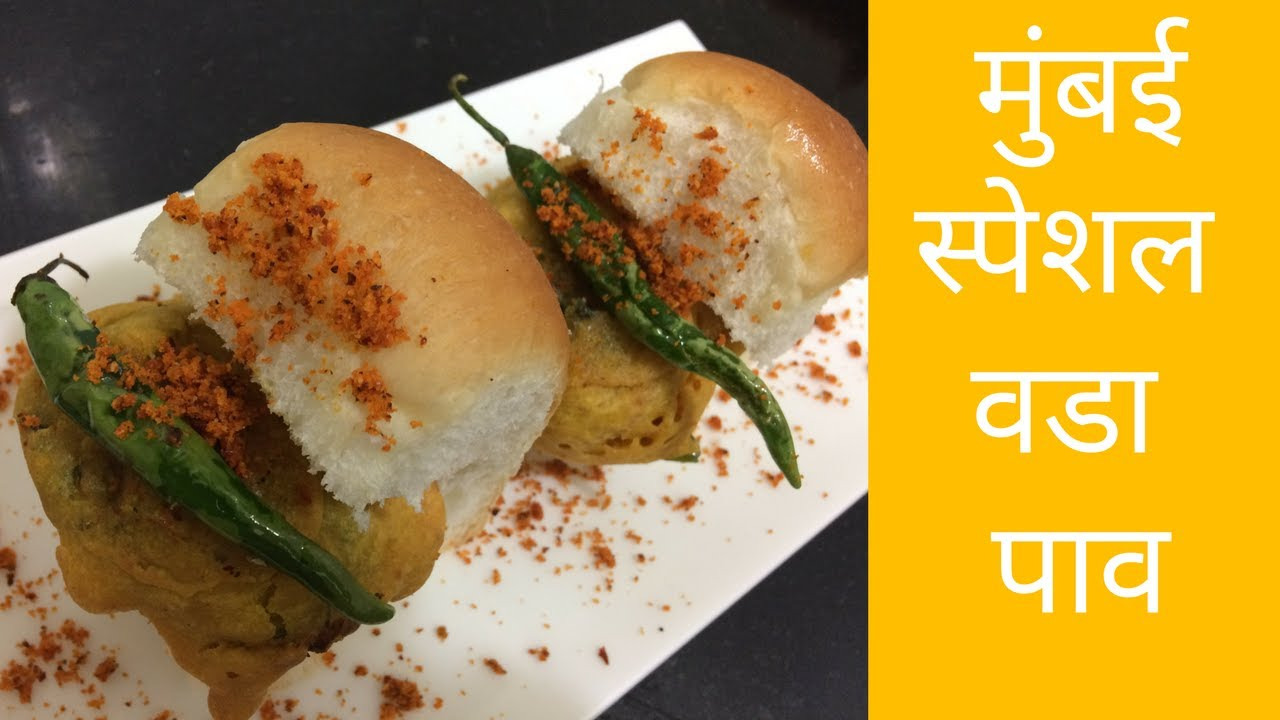vada pav: (216, 178, 465, 594), (619, 83, 789, 472)
